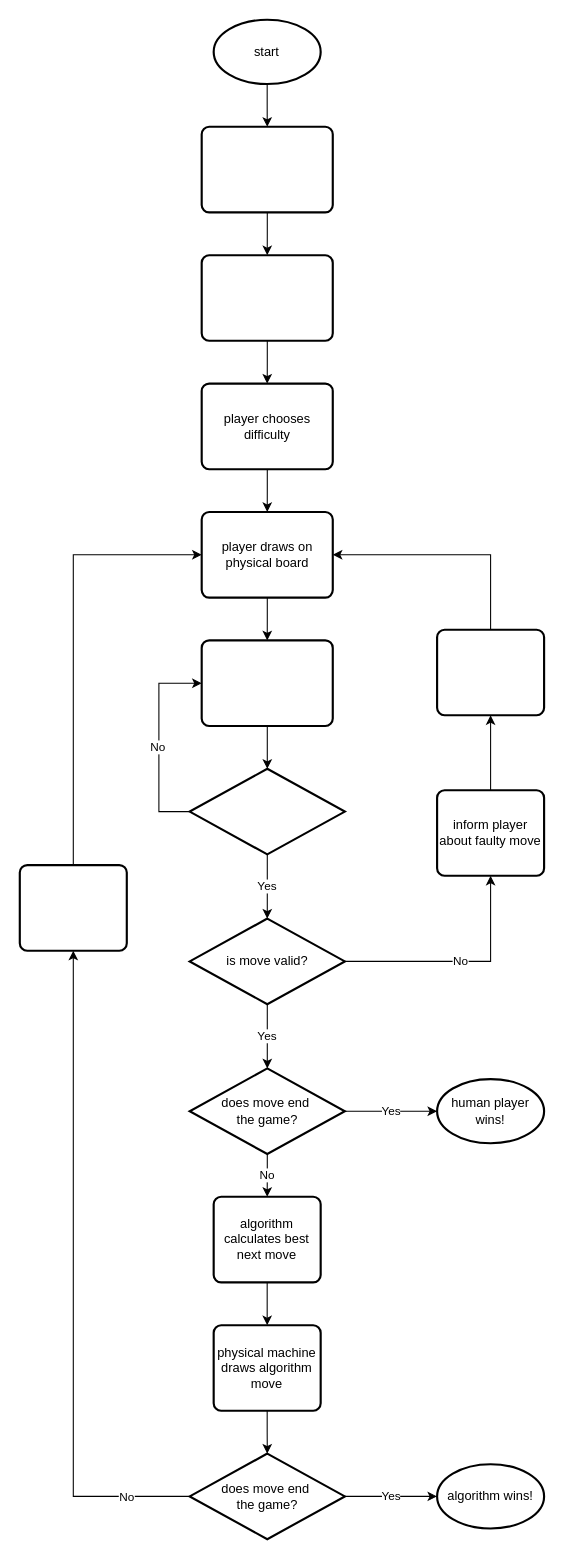
The diagram is 563 pixels wide and 1558 high, and some of its shapes have lost their labels. The centre of each missing label's shape, as x and y in pixels:
"camera detects board change" goes at point 266,683.
"detected move successfully?" goes at point 266,811.
"inform player about his turn" goes at point 72,907.
"player clears previous move" goes at point 490,672.
"player selects algorithm" goes at point 266,297.
"player starts new game" goes at point 266,169.
